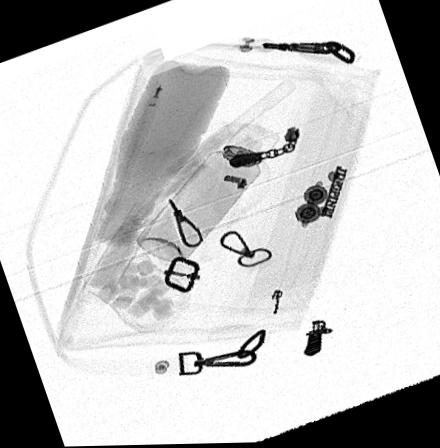Sprayer: (136, 125, 279, 264)
